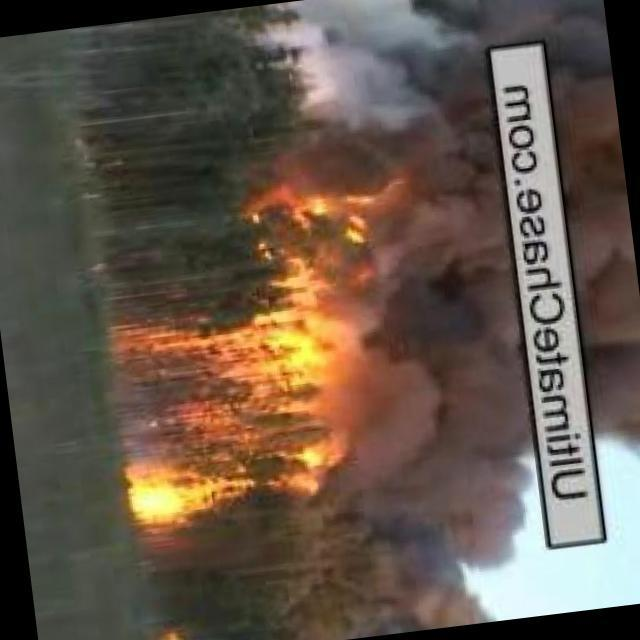Fire: (103, 296, 385, 526), (250, 174, 385, 256), (146, 629, 194, 640)
